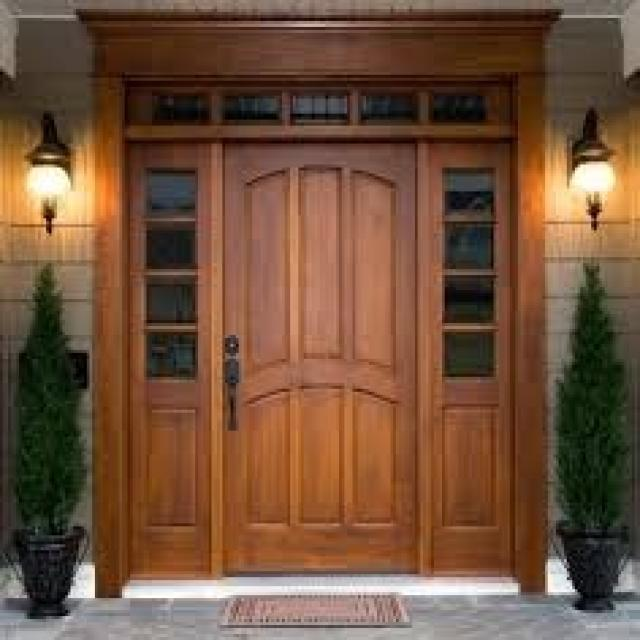door: (209, 135, 423, 568)
